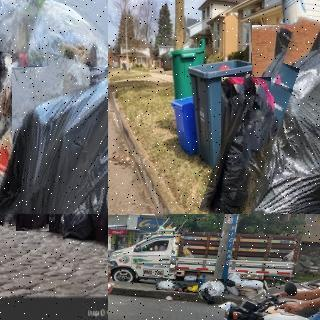Garbage: (232, 19, 320, 214), (0, 59, 108, 214), (210, 75, 282, 214), (55, 214, 96, 239), (197, 277, 226, 303), (12, 214, 52, 232), (156, 278, 175, 291), (239, 287, 258, 300), (241, 279, 263, 289), (226, 282, 241, 296), (228, 274, 243, 283), (174, 283, 188, 291), (187, 285, 200, 292)
